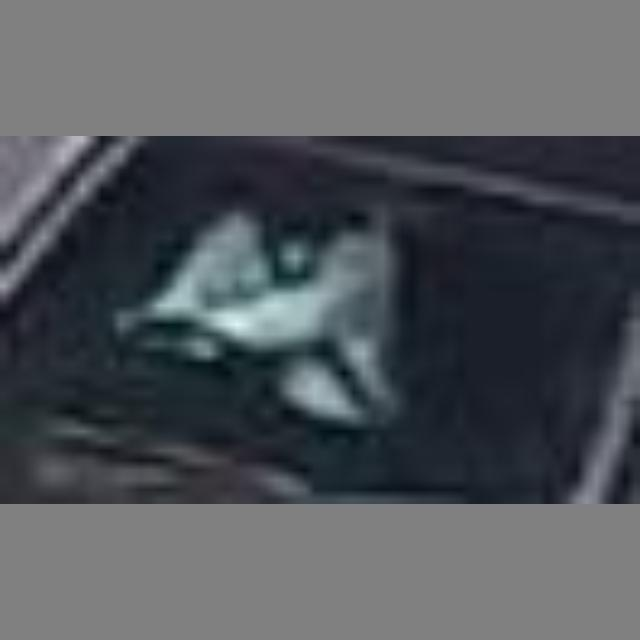pakai: (107, 204, 465, 437)
